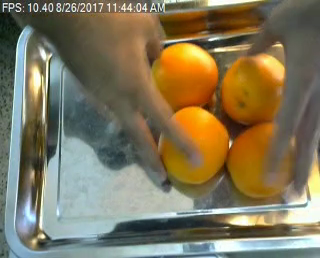Orange: (226, 120, 300, 198), (159, 107, 228, 182), (222, 52, 289, 127), (152, 42, 218, 113)
